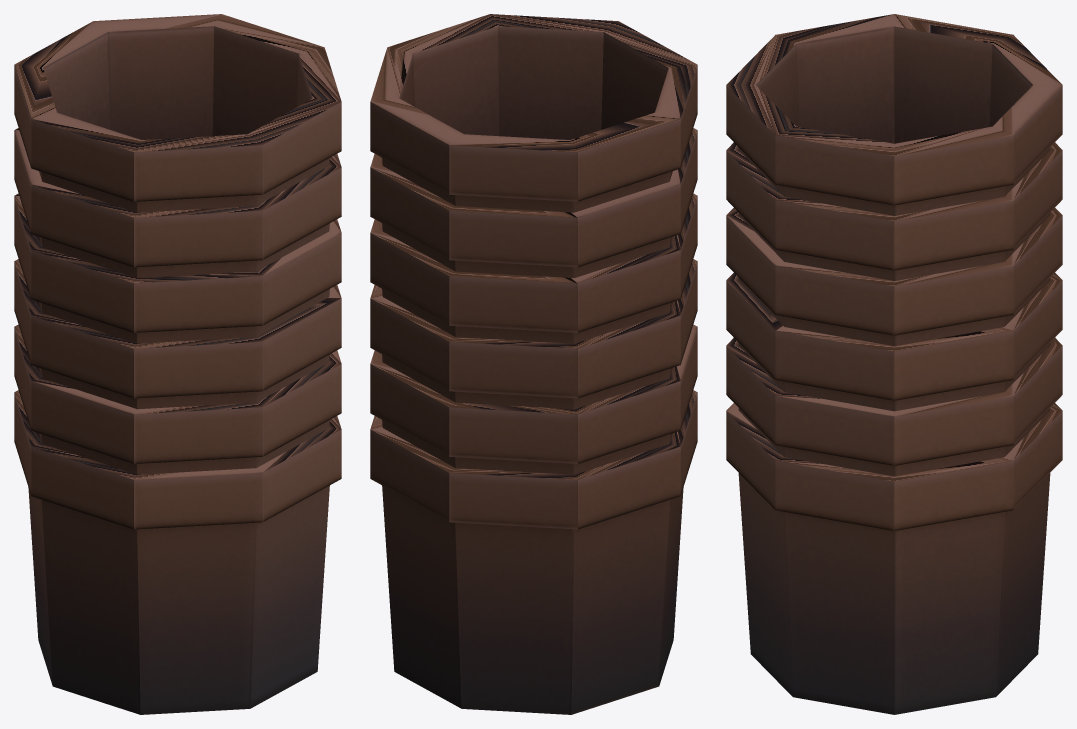
File: potstack01.fbx
3 renders of one model, left to right at view 1: azimuth 30°, elevation 25°; view 2: azimuth 150°, elevation 25°; view 3: azimuth 270°, elevation 25°, orthographic.
Parts seen in each view (by area): view 1: pot01; view 2: pot01; view 3: pot01.
Boxes of the visible parts, box(x1,y1,x2,y2) form: pot01: box(14, 14, 341, 714); pot01: box(370, 14, 697, 714); pot01: box(726, 14, 1062, 714).
Size of the model in its own units: 0.4968 by 0.4968 by 0.9268.
Materials: 1 (1 with a texture image).
